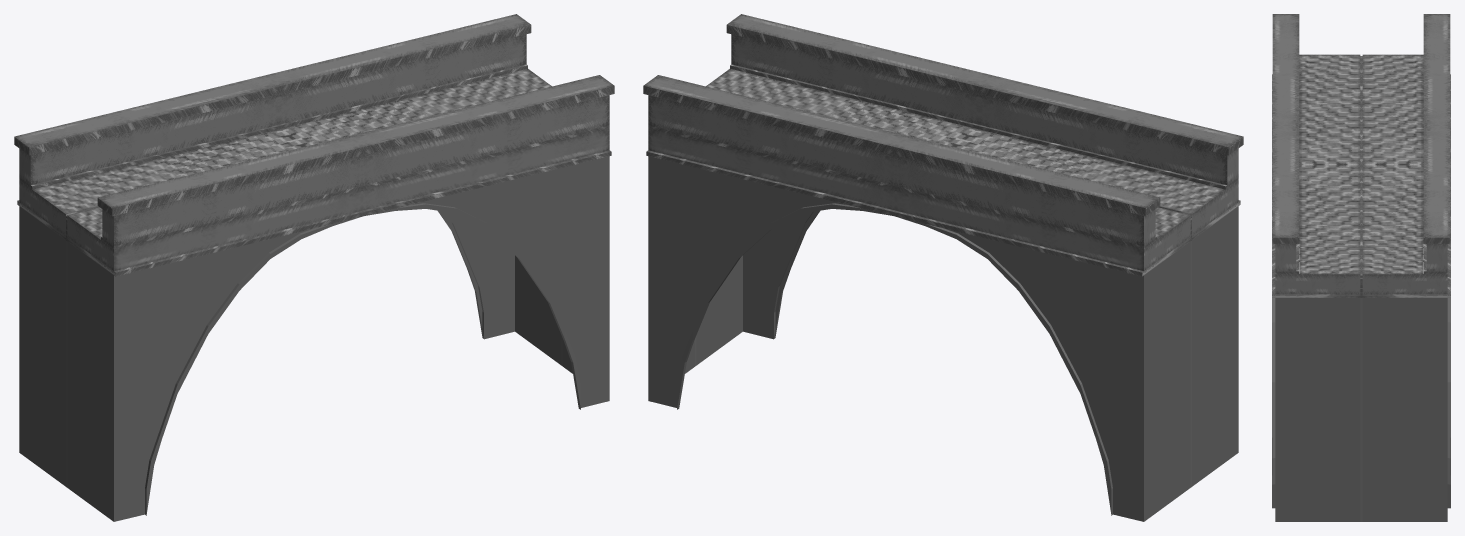
The model's file is pont-path_of-matches.fbx.
The picture shows the model from 3 angles, left to right: view 1: azimuth 30°, elevation 25°; view 2: azimuth 150°, elevation 25°; view 3: azimuth 270°, elevation 25°; orthographic projection. The views are drawn at different scales.
Visible parts, largest first — view 1: Cube; view 2: Cube; view 3: Cube.
Boxes of the visible parts, bbox=[...] form: Cube: bbox=[14, 14, 614, 521]; Cube: bbox=[643, 14, 1243, 521]; Cube: bbox=[1272, 14, 1450, 521].
Size of the model in its own units: 4052 by 2435 by 1376.
Materials: 2 (1 with a texture image).
